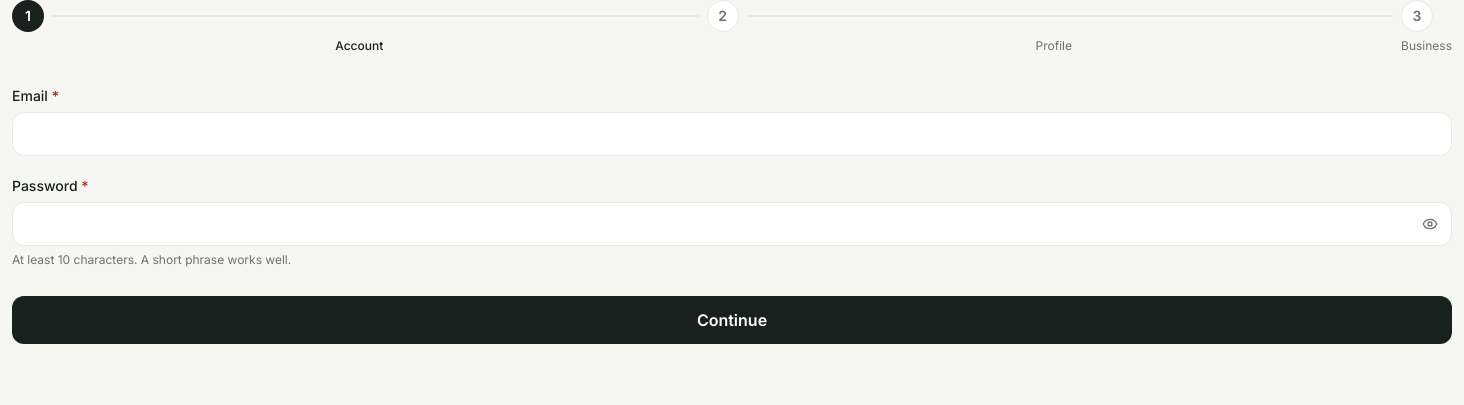
Test: SignupForm › validates each step before moving on
Click the button "Continue" at {"x": 732, "y": 320}, box [12,296,1452,344]
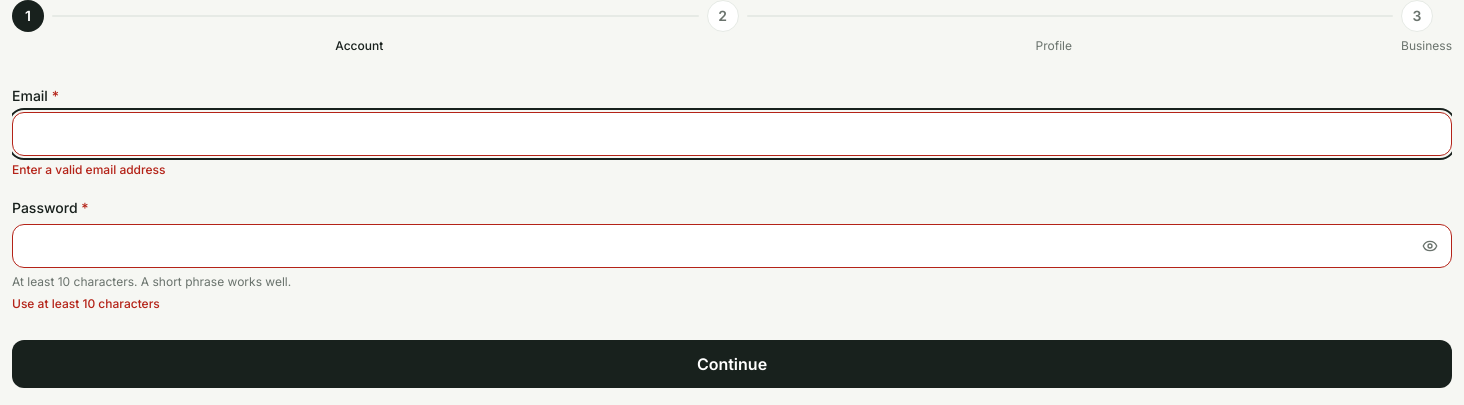
expect the field labelled "Email *" is shown: met, box [12,112,1452,156]
expect the text "Enter a valid email address" is shown: met, box [12,162,165,177]
